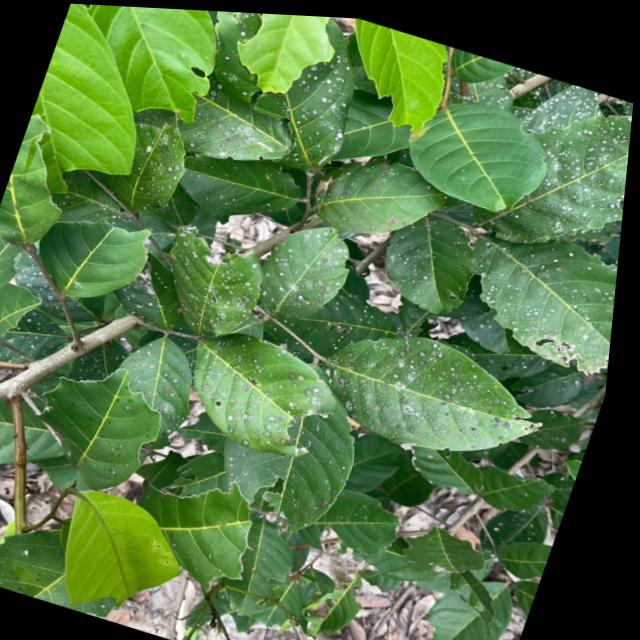Algal Leaf Spot: (40, 35, 572, 525), (400, 40, 638, 248), (0, 243, 159, 427)
